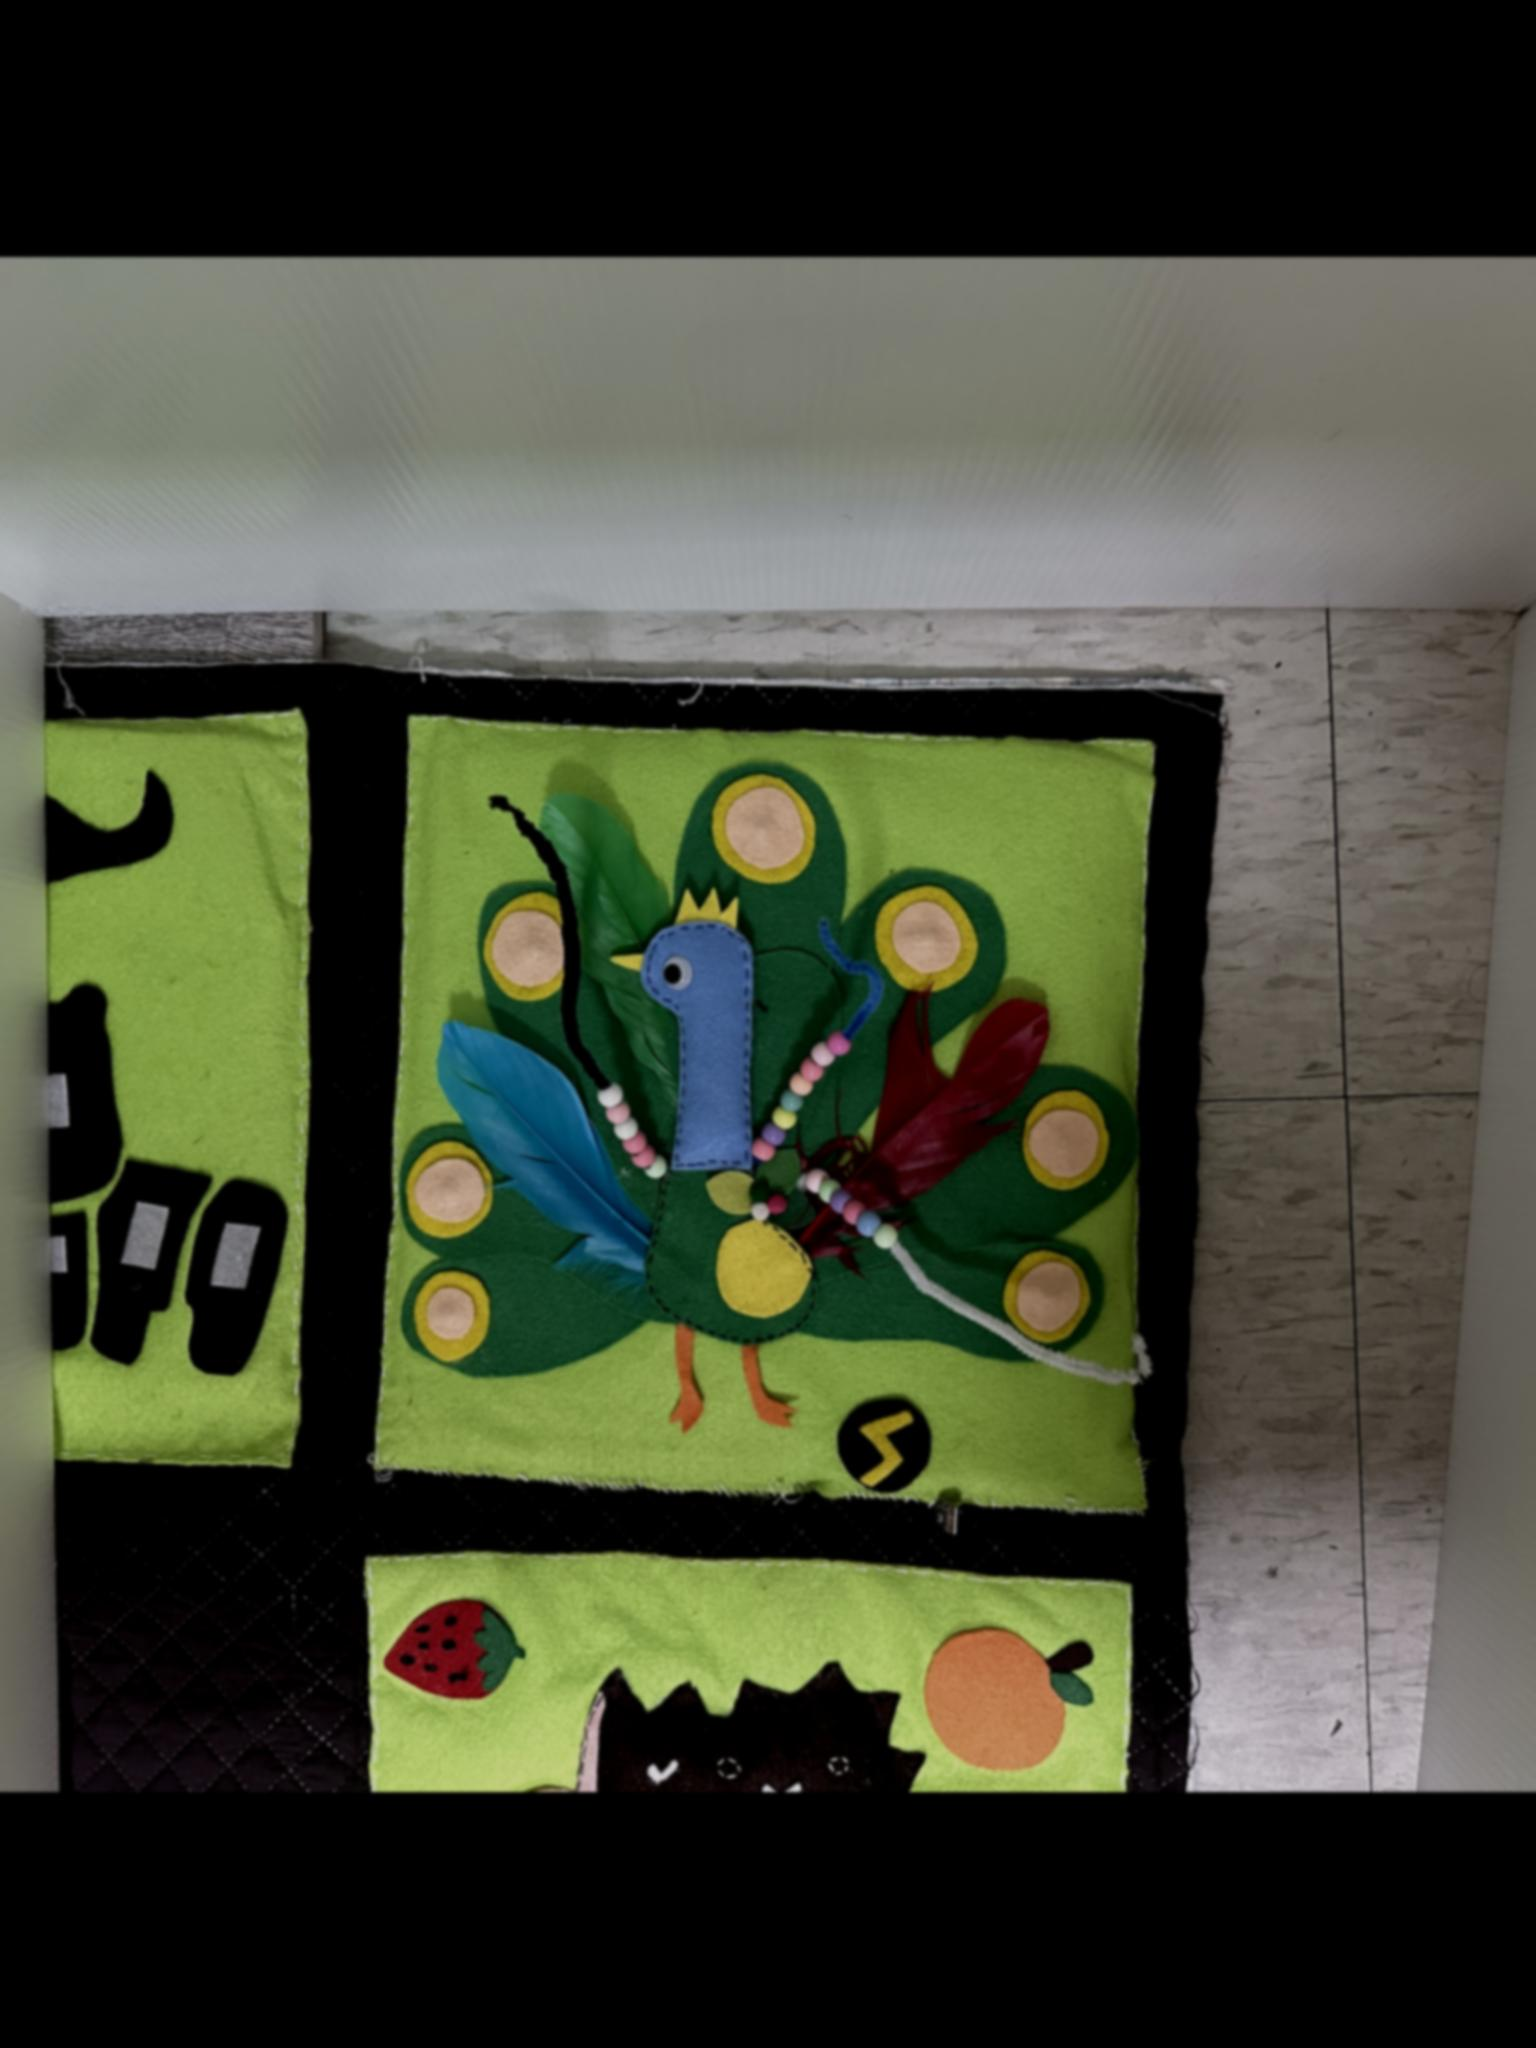bead: (787, 1072, 812, 1095), (858, 1211, 881, 1235), (826, 1032, 852, 1053), (810, 1043, 834, 1064), (873, 1226, 897, 1247), (771, 1108, 797, 1127), (600, 1080, 621, 1103), (778, 1092, 802, 1111), (752, 1137, 773, 1158), (802, 1058, 824, 1077), (842, 1201, 865, 1221), (645, 1155, 666, 1174), (624, 1130, 644, 1151), (615, 1118, 636, 1137), (762, 1124, 783, 1143), (831, 1190, 852, 1209), (605, 1105, 628, 1121), (632, 1145, 652, 1163), (821, 1179, 841, 1197), (810, 1169, 826, 1190)
